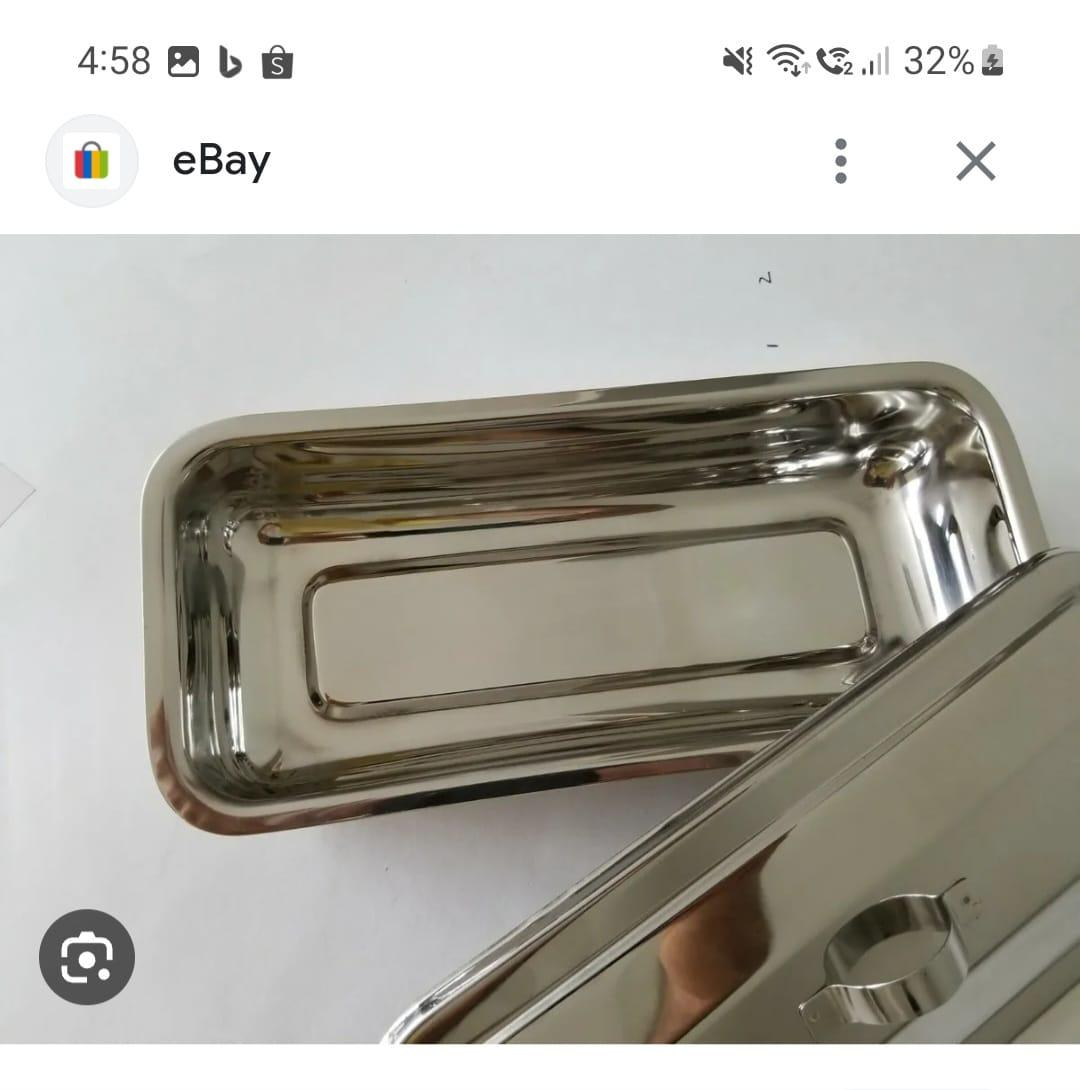Catheter Tray: (123, 352, 1060, 840)
